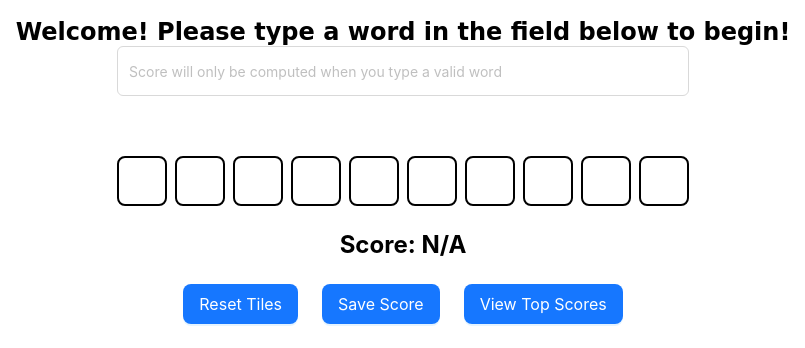
input behaviour, logic and error text › that error text displays below input when word is invalid
Type "invalidw" into the field with test id "input-field" at x=403, y=71, box [117,46,689,96]
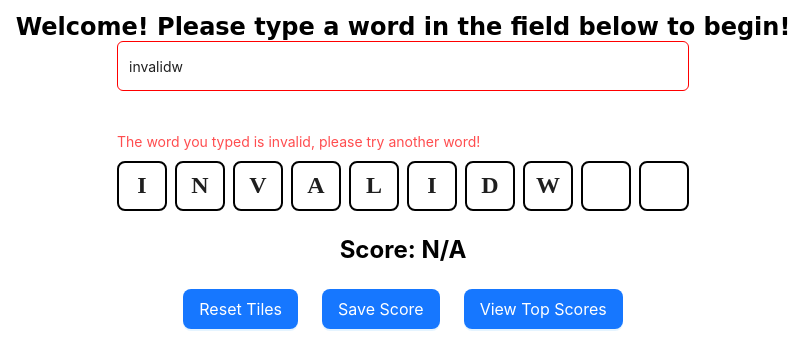
Result: the text with test id "invalid-word-error-text" reads "The word you typed is invalid, please try another word!" at [117,133,480,150]
